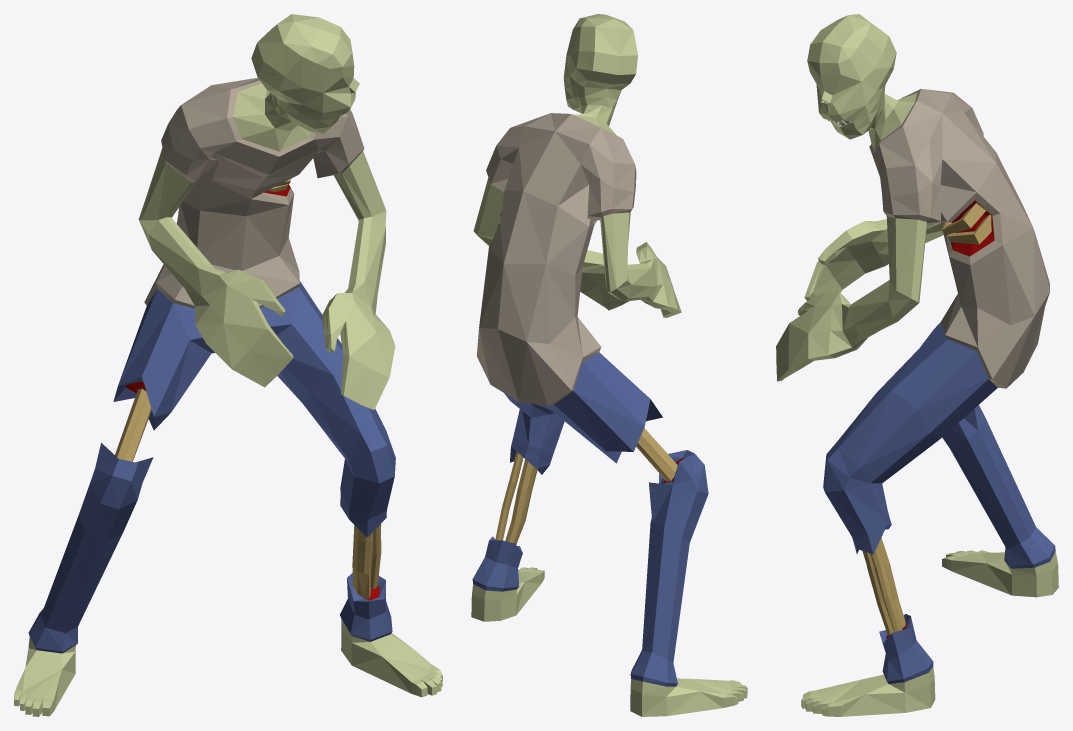
The model's file is zombie.glb.
3 views of the same model, side by side, from view 1: azimuth 30°, elevation 25°; view 2: azimuth 150°, elevation 25°; view 3: azimuth 270°, elevation 25° (orthographic). The views are drawn at different scales.
Size of the model in its own units: 3.74 by 7.04 by 2.82.
